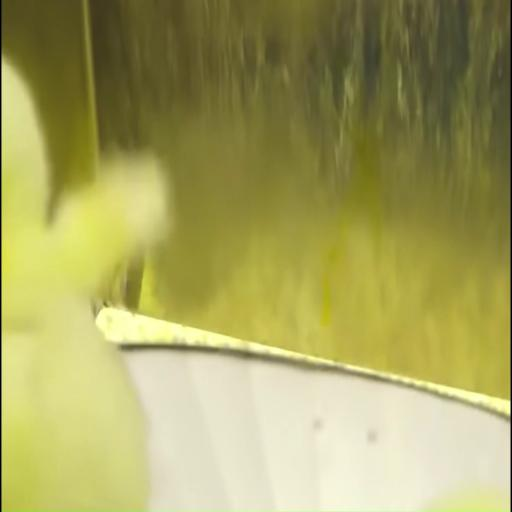chick: (2, 57, 166, 510)
